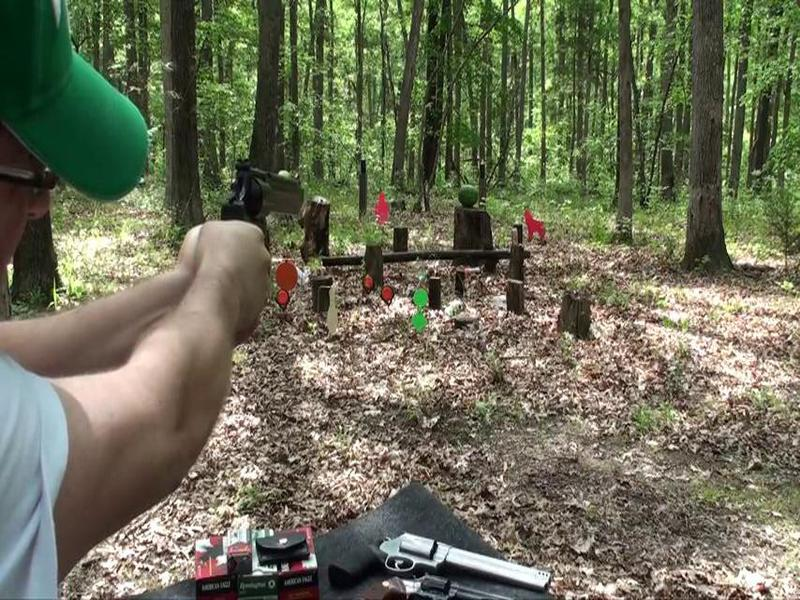Revolver: (212, 164, 334, 260)
